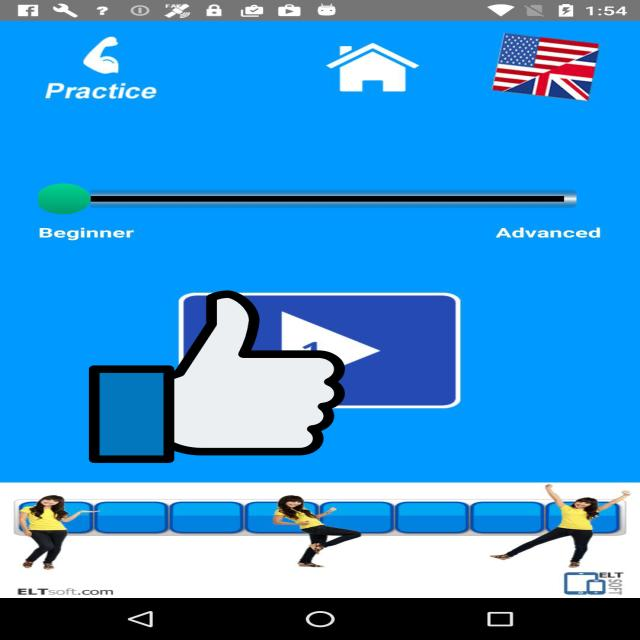privacy zuckering: (89, 286, 345, 466)
